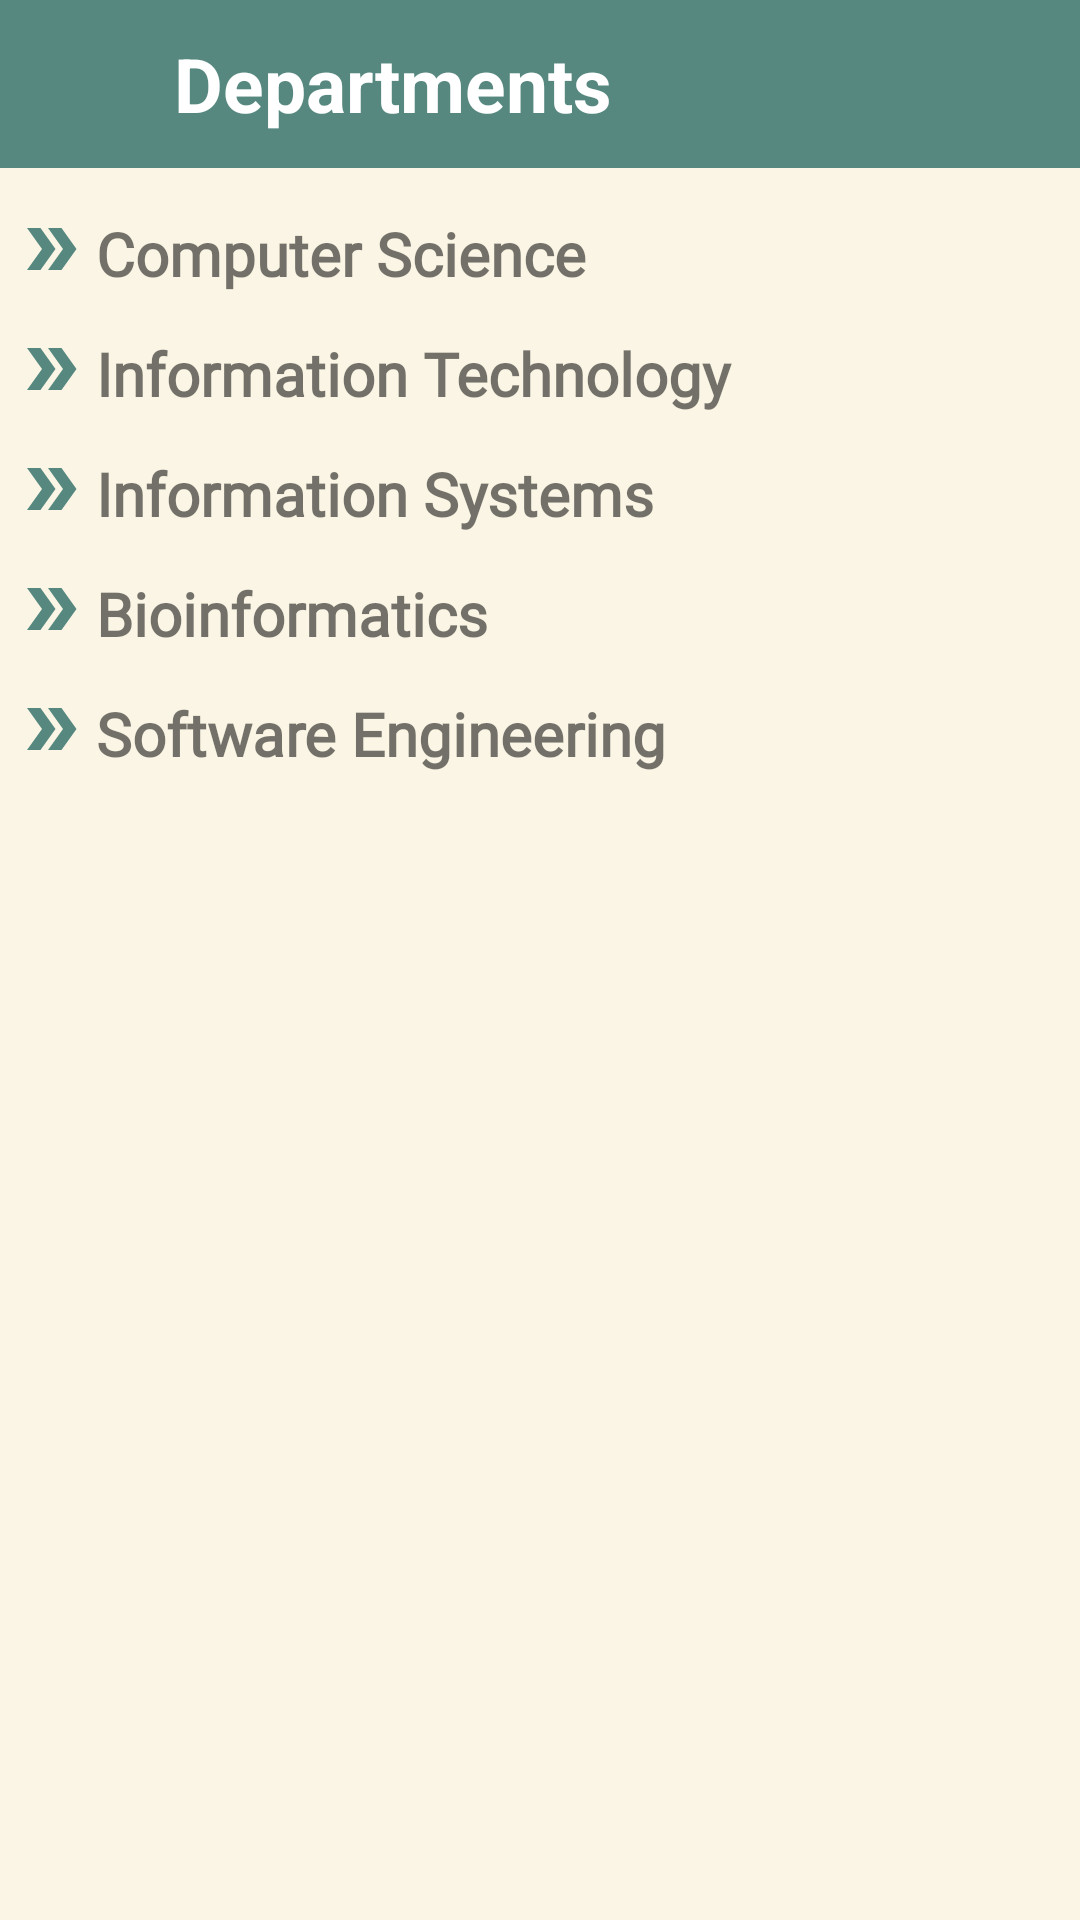

Where to tap for icons on this 1080 × 1920 app screen, as [x,y]:
double arrow: [52,249], [52,369], [52,489], [52,609], [52,729]
